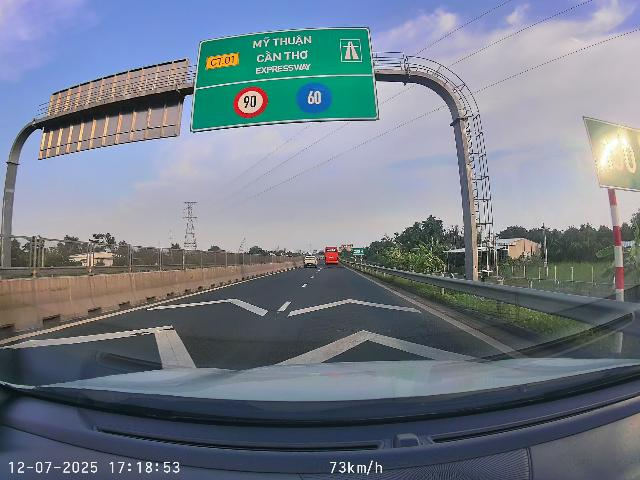127-toc-do-toi-da-90: (233, 86, 269, 119)
306-toc-do-toi-thieu-60: (296, 81, 333, 114)
437-bat-dau-duong-cao-toc: (339, 39, 363, 63)
